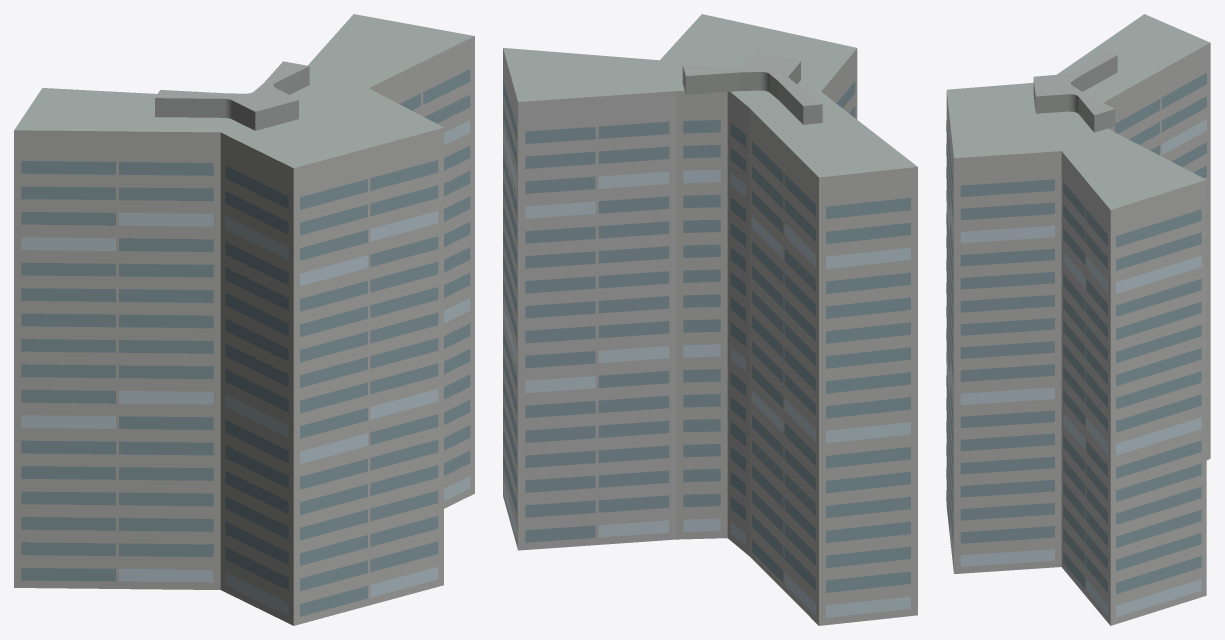
Rendered from fallback-godeok-gracium-141.glb.
3 renders of one model, left to right at view 1: azimuth 30°, elevation 25°; view 2: azimuth 150°, elevation 25°; view 3: azimuth 270°, elevation 25°, orthographic. The views are drawn at different scales.
Parts seen in each view (by area): view 1: fallback-godeok-gracium-141; view 2: fallback-godeok-gracium-141; view 3: fallback-godeok-gracium-141.
Part boxes in pixels (box(x1,y1,x2,y2)): fallback-godeok-gracium-141: box(14, 14, 474, 625); fallback-godeok-gracium-141: box(503, 14, 917, 625); fallback-godeok-gracium-141: box(946, 14, 1210, 625).
Bounding box in the file's own units: 58.23 × 60 × 33.15.
